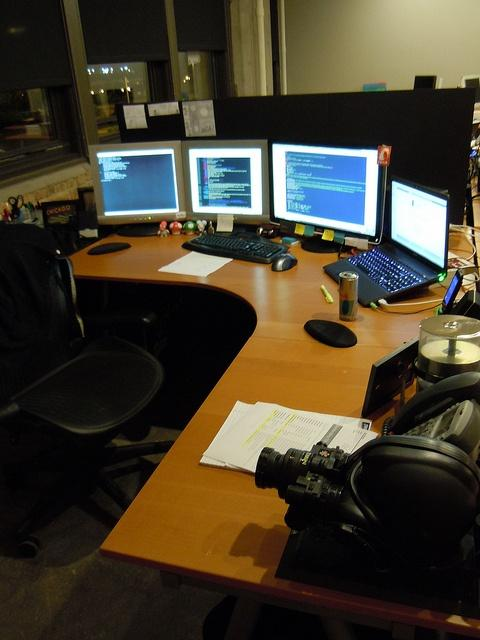AIO PC-Monitor-TV: (266, 139, 391, 245), (87, 138, 186, 225), (179, 139, 270, 224)
